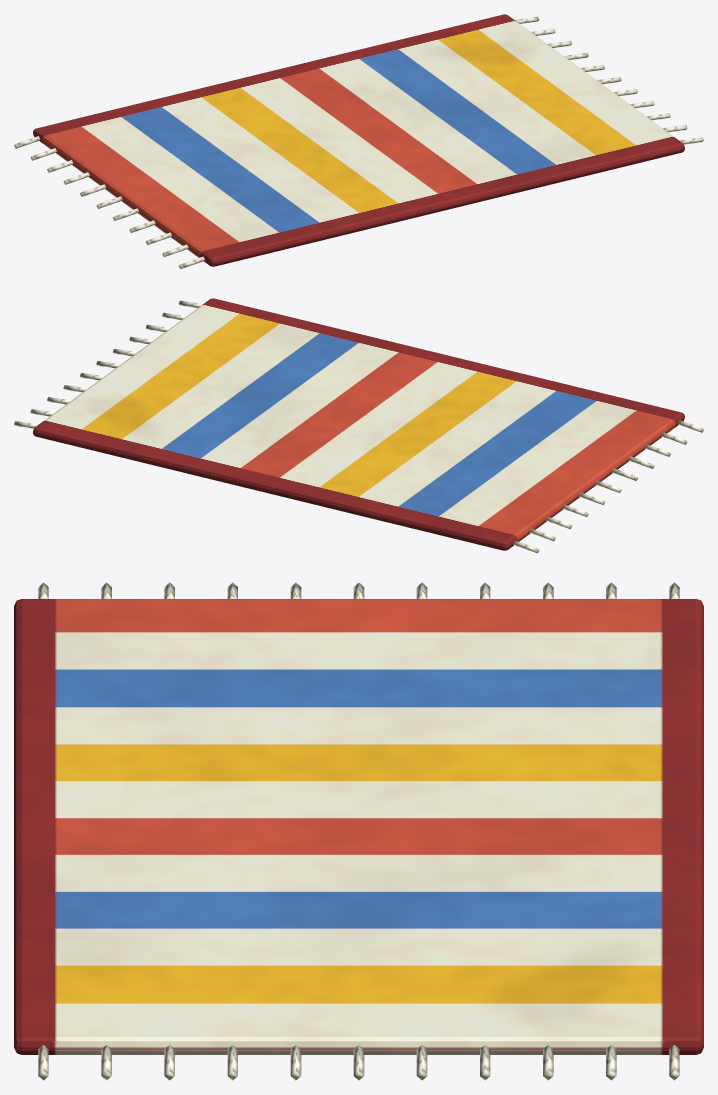
The model's file is rug_wool.glb.
3 views of the same model, one above another, from view 1: azimuth 30°, elevation 25°; view 2: azimuth 150°, elevation 25°; view 3: azimuth 270°, elevation 25° (orthographic). The views are drawn at different scales.
Visible parts, largest first — view 1: RugWool; view 2: RugWool; view 3: RugWool.
Part boxes in pixels (bbox=[...]): RugWool: bbox=[14, 14, 703, 269]; RugWool: bbox=[14, 298, 703, 553]; RugWool: bbox=[14, 582, 703, 1080].
Size of the model in its own units: 1.76 by 0.031 by 1.05.
Materials: 1 (1 with a texture image).
